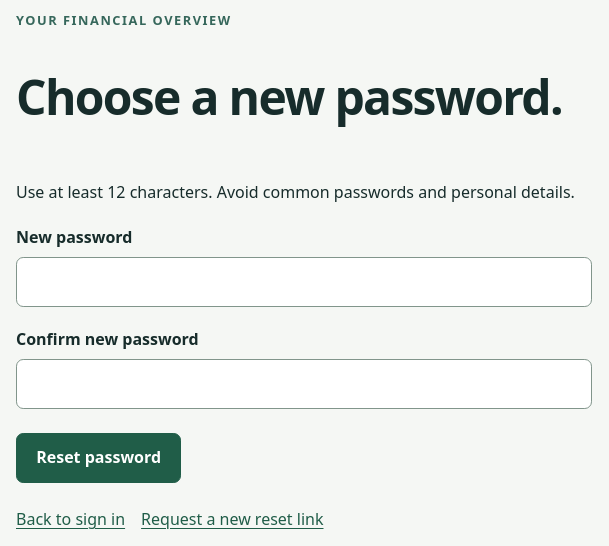
Test case: authentication workflows › removes reset credentials from browser history and submits them only in the reset body
The width and height of the screenshot is (609, 546).
Type "new-password-example" into the password field labelled "New password" at (304, 282), box [16, 257, 592, 307]
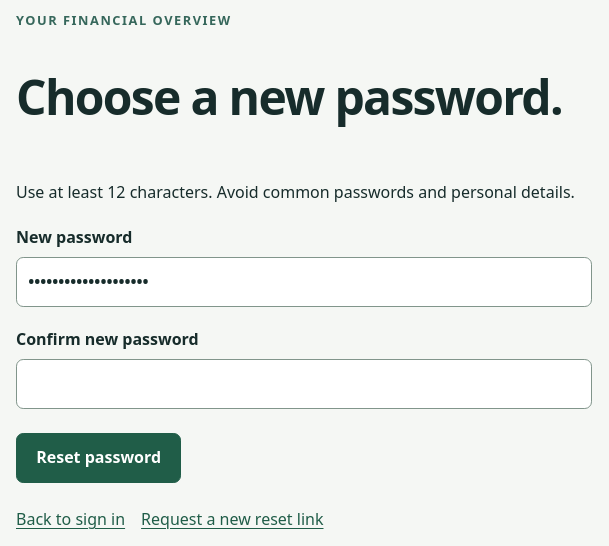
Type "new-password-example" into the password field labelled "Confirm new password" at (304, 384), box [16, 359, 592, 409]
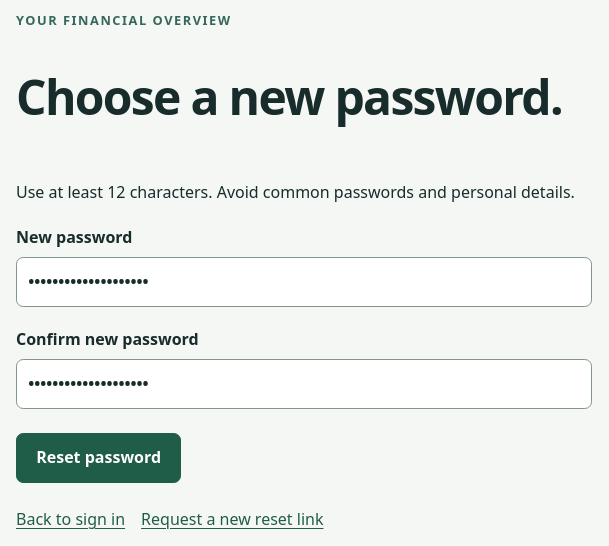
Click the button "Reset password" at (99, 458), box [16, 433, 181, 483]
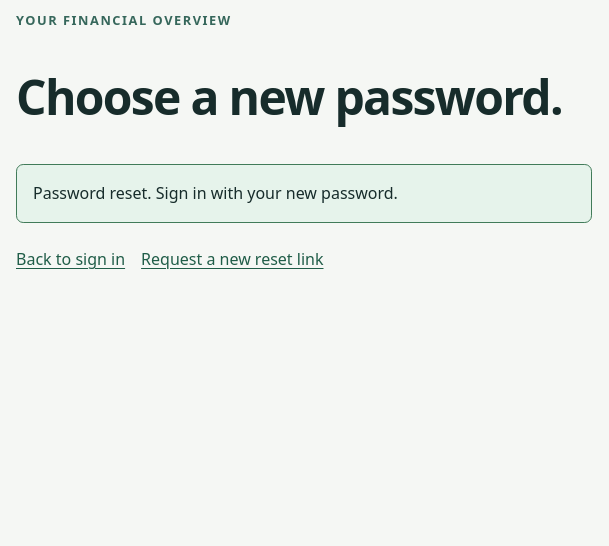
Result: the message shows "Password reset" at [33, 182, 398, 204]
